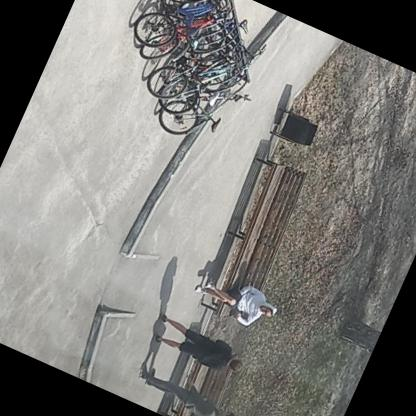Human Body: (148, 310, 250, 380), (188, 266, 282, 336), (129, 359, 242, 415)
